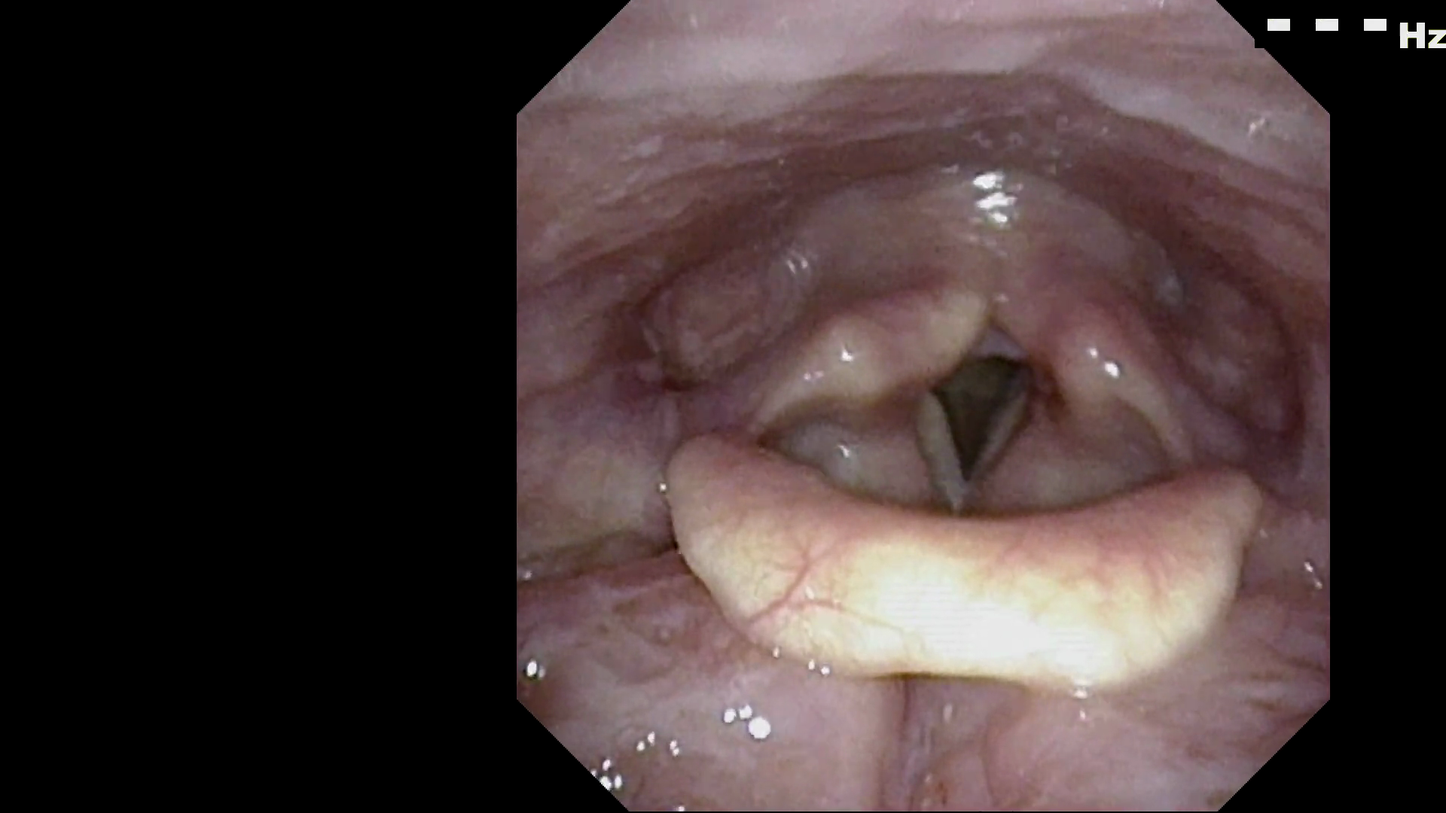epiglottis: (661, 415, 1276, 707)
trachea: (897, 332, 1063, 505)
